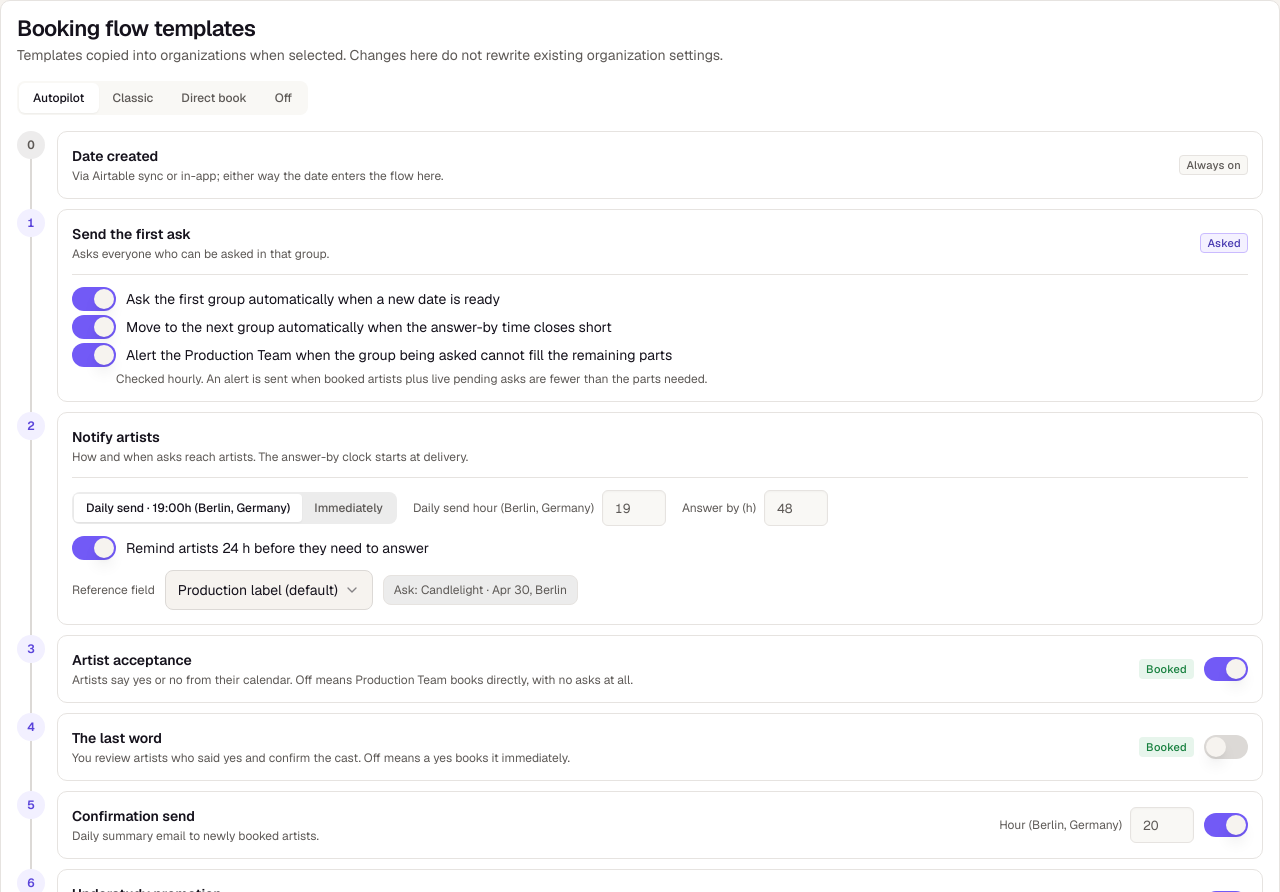
Test: BookingTemplatesDefaultsCard › blocks saving an invalid Answer by (h)
Step 1. Replace the text in the number field labelled "Answer by (h)" with "0" → (796,508), box top-left (764, 490), bottom-right (828, 526)
(page scrolled)
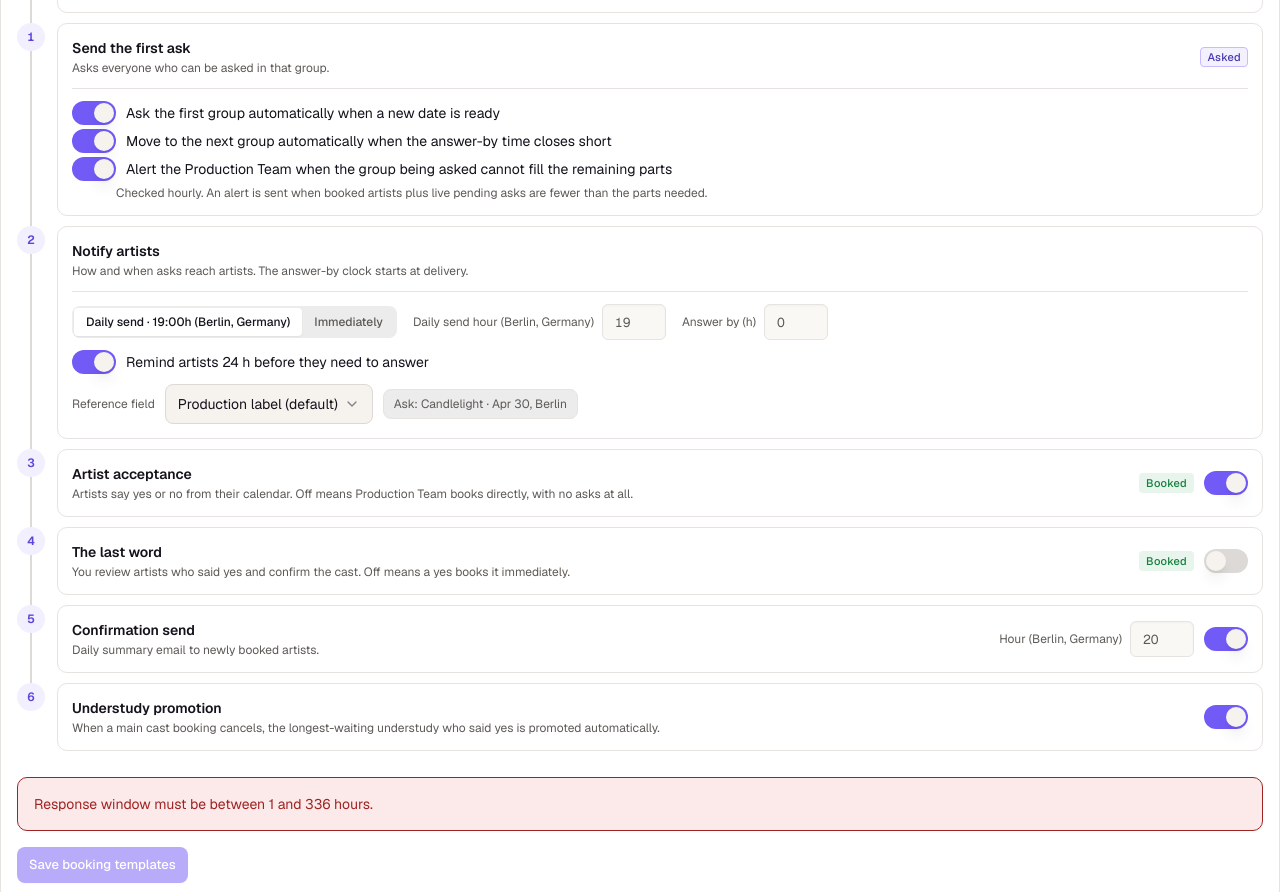
Expected: the text "Response window must be between 1 and 336 hours." is shown, top-left (34, 795), bottom-right (373, 813)
Expected: the button "Save booking templates" is disabled, top-left (17, 847), bottom-right (188, 883)
